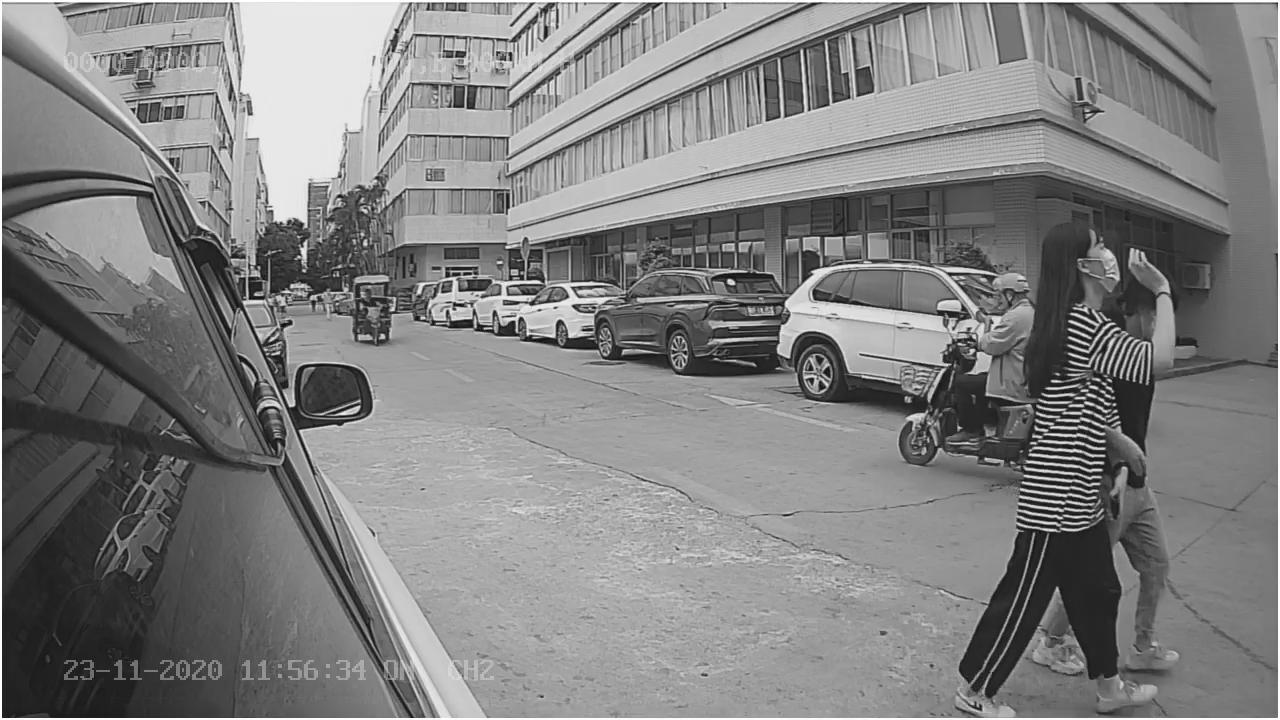person: (1020, 221, 1122, 720)
